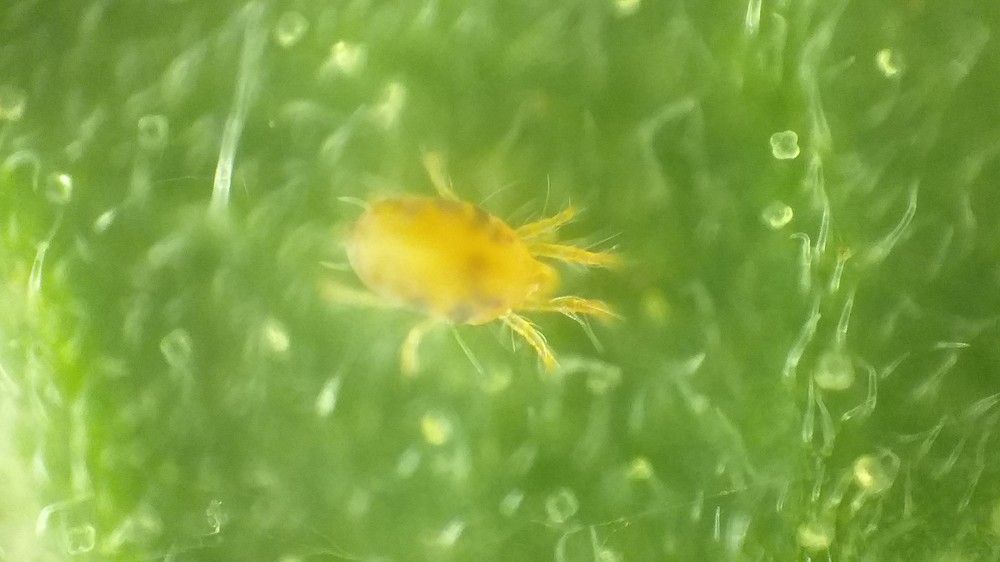Aracnido Rojo: (317, 147, 647, 396)
